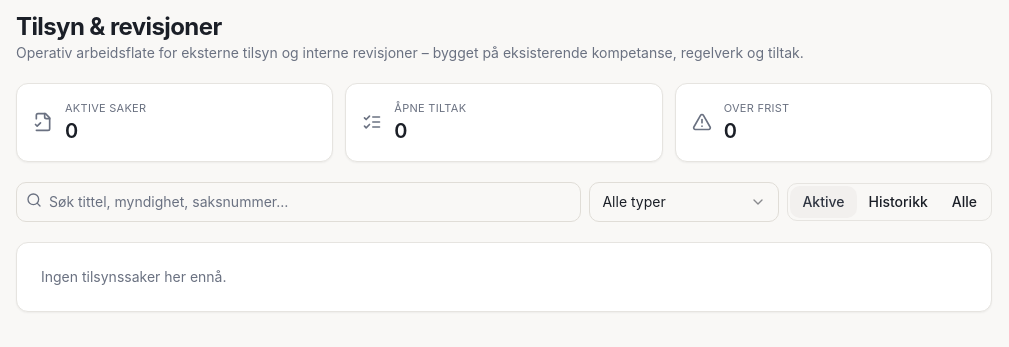
Scenario: overview consumes shared summaries › moves a fully submitted case to history despite stale case raw status
expect the button "Revisjon av virksomheten" is not shown: met
Click the button "Historikk": [898, 202] box [856, 186, 940, 218]
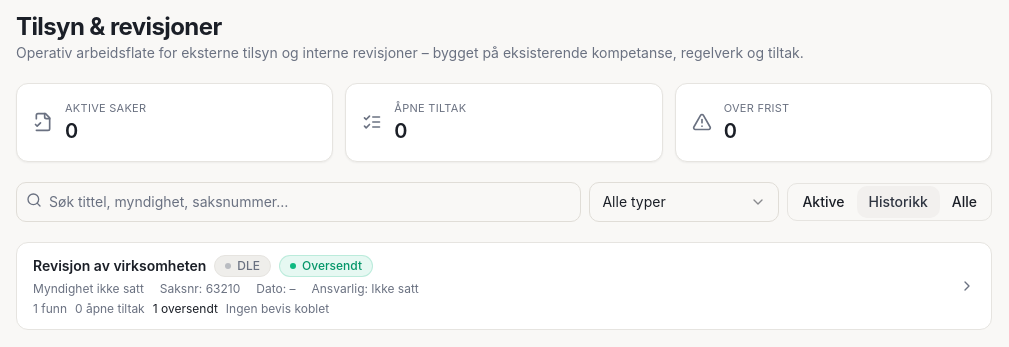
expect the button "Revisjon av virksomheten" is enabled: met, box [16, 242, 992, 330]
